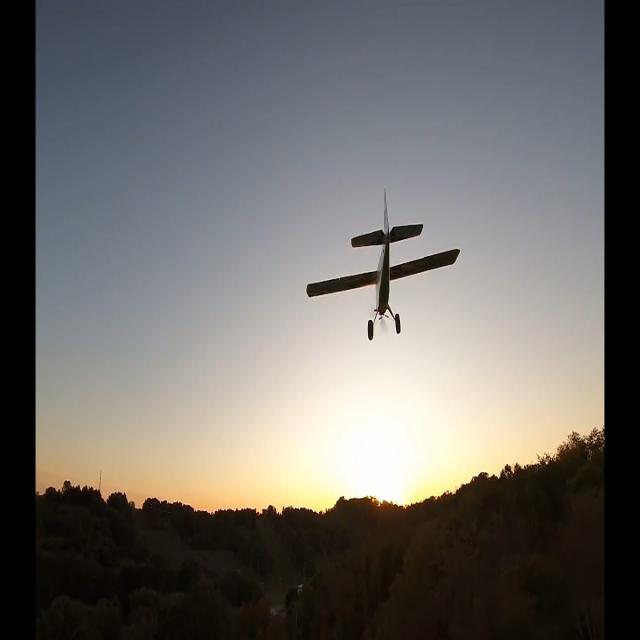iha: (305, 180, 462, 337)
